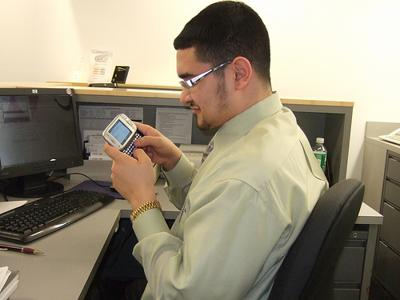person: (104, 2, 328, 300)
